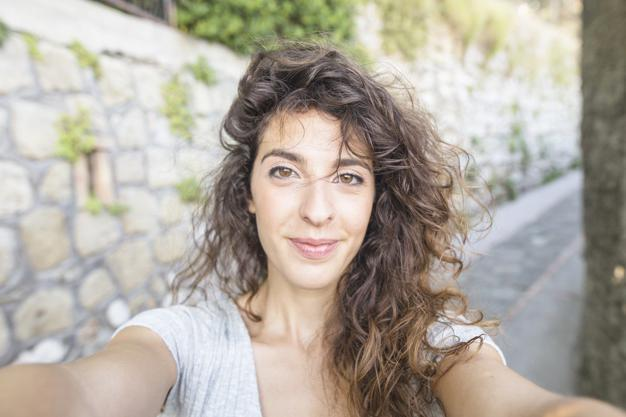face: (252, 106, 376, 290)
